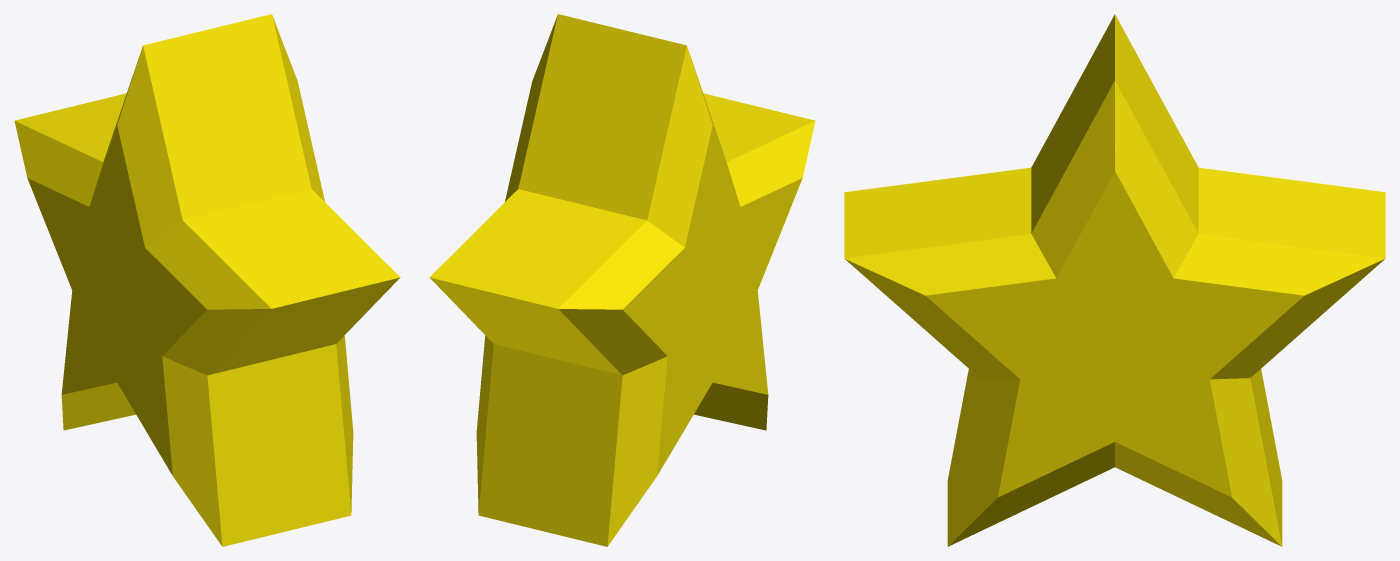
Rendered from star.fbx.
The picture shows the model from 3 angles, left to right: view 1: azimuth 30°, elevation 25°; view 2: azimuth 150°, elevation 25°; view 3: azimuth 270°, elevation 25°; orthographic projection. The views are drawn at different scales.
Visible parts, largest first — view 1: Star; view 2: Star; view 3: Star.
Part boxes in pixels (<box>): Star: <box>14,14,400,546</box>; Star: <box>429,14,815,546</box>; Star: <box>844,14,1385,546</box>.
Size of the model in its own units: 0.7225 by 1.7 by 1.78.
